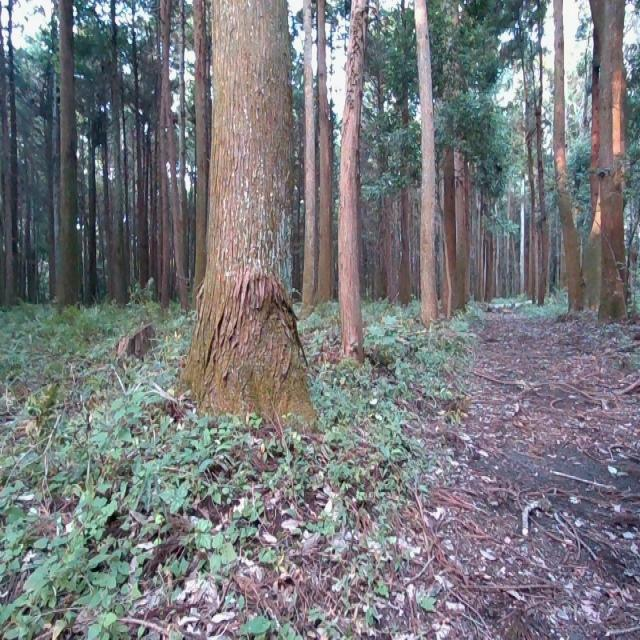tree: (185, 0, 325, 443), (586, 0, 635, 320), (338, 0, 376, 363), (299, 0, 338, 328), (549, 0, 588, 315), (410, 0, 447, 328), (442, 0, 477, 311), (52, 0, 84, 315), (0, 0, 27, 307), (112, 0, 132, 309), (109, 320, 161, 357)
